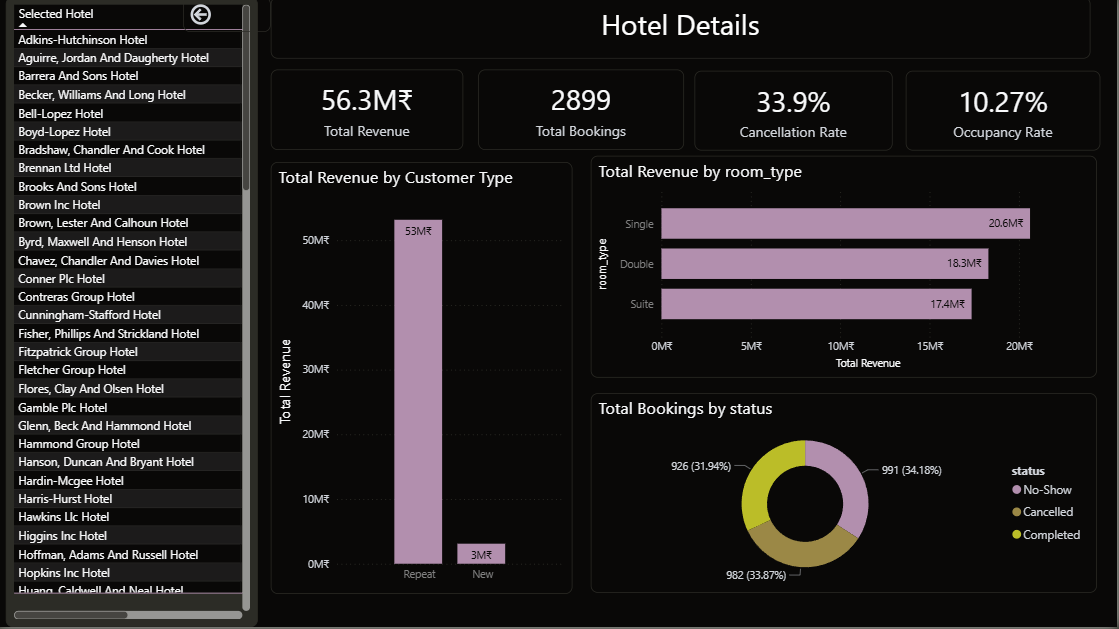

Layout of this report page (visuals, bound fields, positions):
{"tool":"powerbi","page":{"name":"Hotel Details","canvas":[1280,720],"ordinal":2},"visuals":[{"type":"tableEx","fields":{"Values":["Measure.Selected Hotel","hotels_large.hotel_name"]},"box":[10,0,288.3,720],"z":0},{"type":"card","fields":{"Values":["Measure.Total Revenue"]},"box":[313.3,83.3,220,91.7],"z":1000},{"type":"card","fields":{"Values":["Booking_Latest_Status.Total Bookings"]},"box":[550,83.3,235,91.7],"z":2000},{"type":"card","fields":{"Values":["Booking_Latest_Status.Cancellation Rate"]},"box":[797.5,83.8,226.2,91.2],"z":3000},{"type":"card","fields":{"Values":["Measure.Occupancy Rate"]},"box":[1038.8,83.8,222.5,91.2],"z":4000},{"type":"clusteredBarChart","fields":{"Category":["rooms_large.room_type"],"Y":["Measure.Total Revenue"]},"box":[678.3,181.7,578.3,253.3],"z":5000},{"type":"actionButton","box":[212.9,0,100,40],"z":6000},{"type":"textbox","box":[313.3,0,936.7,70],"z":7000},{"type":"clusteredColumnChart","title":"Total Revenue by Customer Type","fields":{"Y":["Measure.Total Revenue"],"Category":["customers_large.Customer Type"]},"box":[313.3,188.3,345,493.3],"z":8000},{"type":"donutChart","fields":{"Category":["booking_history_large.status"],"Y":["Measure.Total Bookings"]},"box":[678.3,453.3,578.3,228.3],"z":9000}]}

Visuals, with their boxes in screenshot pixels (x1, y1, x2, y2), scaled from the page's 1280x720 canvas onto the 1119x629 screenshot:
tableEx - Measure.Selected Hotel x hotels_large.hotel_name: bbox(9, 0, 261, 628)
card - Measure.Total Revenue: bbox(274, 73, 466, 153)
card - Booking_Latest_Status.Total Bookings: bbox(481, 73, 686, 153)
card - Booking_Latest_Status.Cancellation Rate: bbox(697, 73, 895, 153)
card - Measure.Occupancy Rate: bbox(908, 73, 1103, 153)
clusteredBarChart - rooms_large.room_type x Measure.Total Revenue: bbox(593, 159, 1099, 380)
actionButton: bbox(186, 0, 274, 35)
textbox: bbox(274, 0, 1093, 61)
"Total Revenue by Customer Type" clusteredColumnChart: bbox(274, 165, 575, 595)
donutChart - booking_history_large.status x Measure.Total Bookings: bbox(593, 396, 1099, 595)
